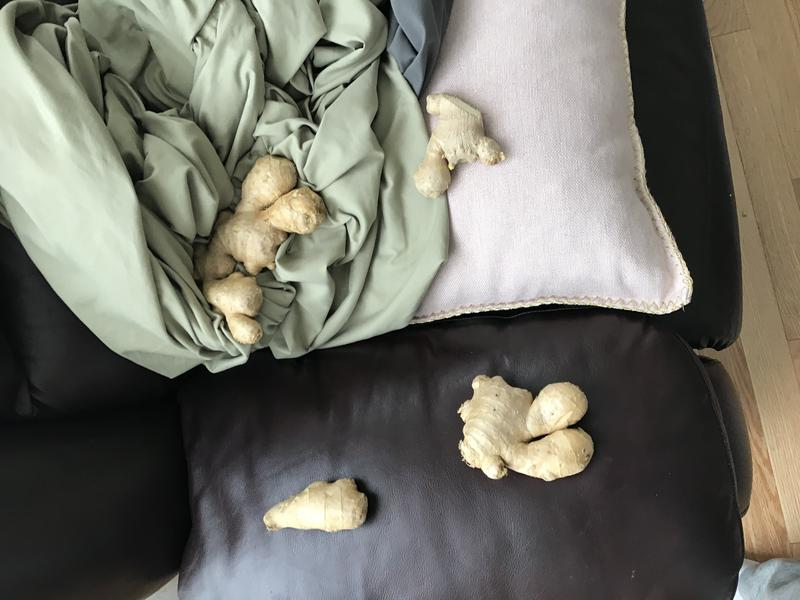ginger: (194, 148, 330, 353), (451, 369, 605, 496), (410, 81, 511, 206), (249, 471, 378, 541)
